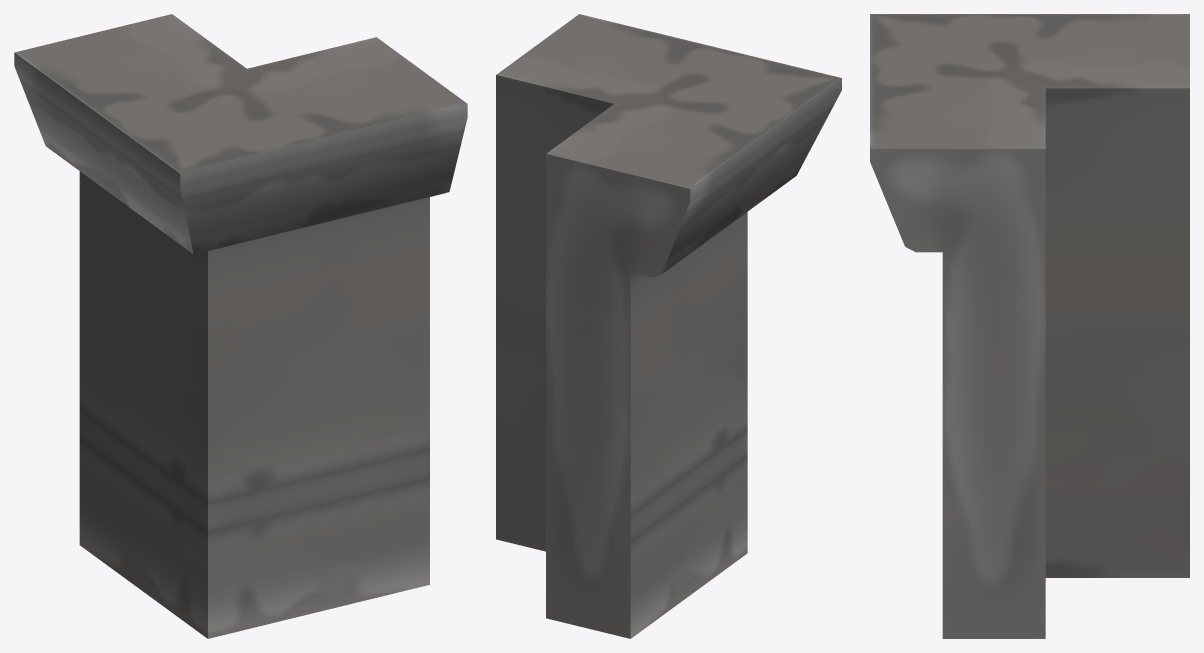
The model's file is PropTrimFacade02_1D.FBX.
3 views of the same model, side by side, from view 1: azimuth 30°, elevation 25°; view 2: azimuth 150°, elevation 25°; view 3: azimuth 270°, elevation 25° (orthographic). The views are drawn at different scales.
Visible parts, largest first — view 1: PropTrimFacade02_1D; view 2: PropTrimFacade02_1D; view 3: PropTrimFacade02_1D.
Part boxes in pixels (box(x1,y1,x2,y2)): PropTrimFacade02_1D: box(14, 14, 467, 638); PropTrimFacade02_1D: box(496, 14, 841, 638); PropTrimFacade02_1D: box(870, 14, 1189, 638).
Size of what is drawn, in the model's own units: 0.2218 by 0.375 by 0.2218.
